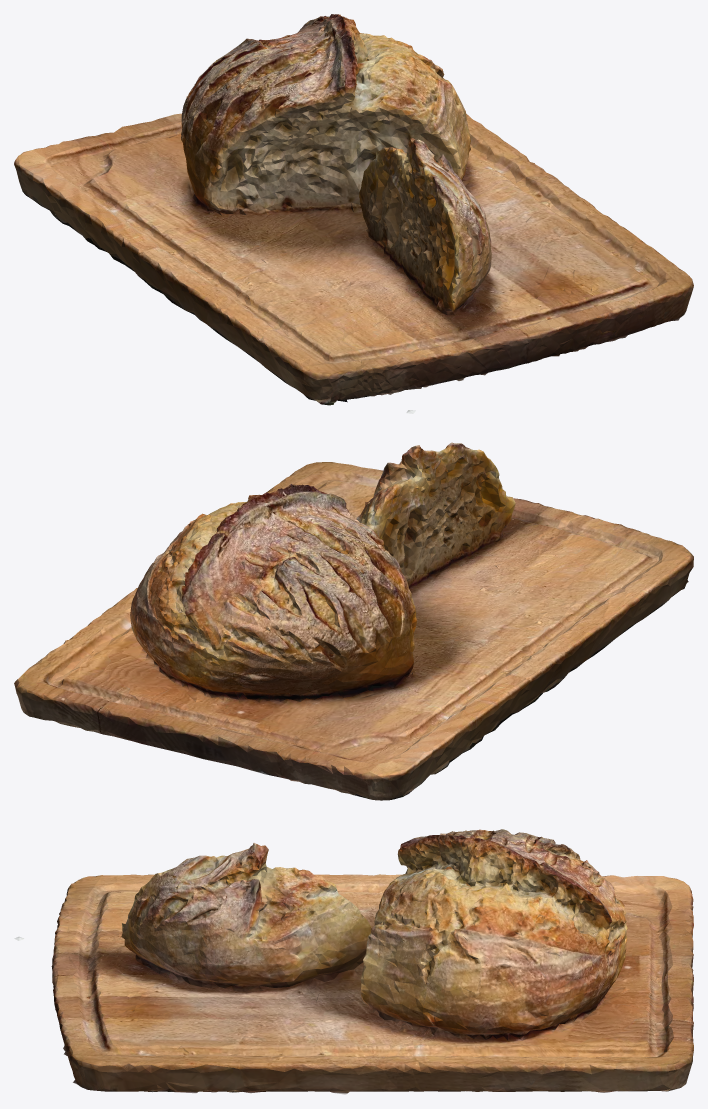
File: sliced-sourdough.glb
The picture shows the model from 3 angles, top to bottom: view 1: azimuth 30°, elevation 25°; view 2: azimuth 150°, elevation 25°; view 3: azimuth 270°, elevation 25°; orthographic projection.
Size of the model in its own units: 0.2821 by 0.1237 by 0.4215.
Materials: 1 (1 with a texture image).
